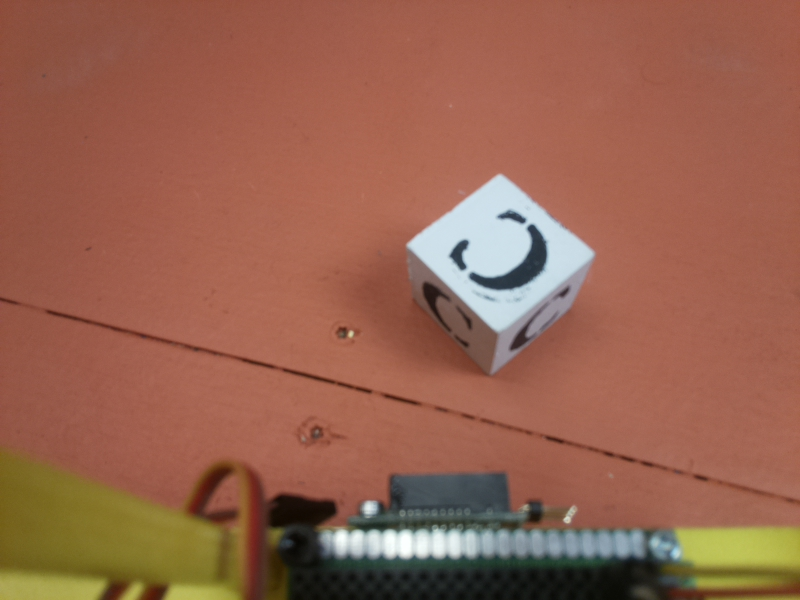blockC: (402, 172, 594, 382)
